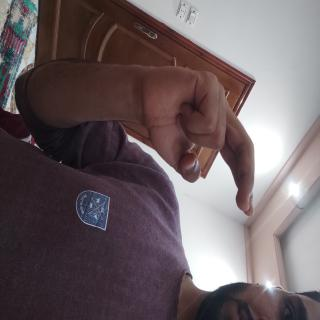ZAY: (41, 74, 173, 259)
